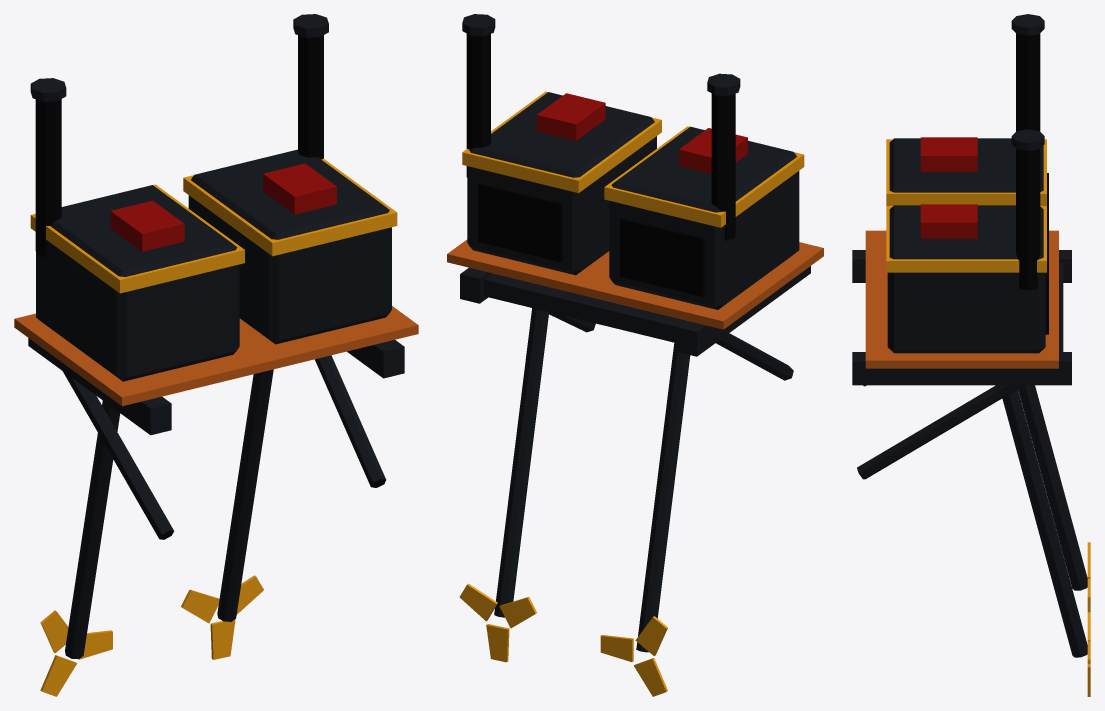
Rendered from tb_upg_twin_diesel.glb.
The picture shows the model from 3 angles, left to right: view 1: azimuth 30°, elevation 25°; view 2: azimuth 150°, elevation 25°; view 3: azimuth 270°, elevation 25°; orthographic projection. The views are drawn at different scales.
Parts seen in each view (by area): view 1: tb_upg_twin_diesel_mesh; view 2: tb_upg_twin_diesel_mesh; view 3: tb_upg_twin_diesel_mesh.
Boxes of the visible parts, x1=… form: tb_upg_twin_diesel_mesh: x1=14, y1=14, x2=418, y2=696; tb_upg_twin_diesel_mesh: x1=447, y1=14, x2=823, y2=696; tb_upg_twin_diesel_mesh: x1=852, y1=14, x2=1090, y2=696.
Size of the model in its own units: 1.4 by 2.92 by 1.08.
